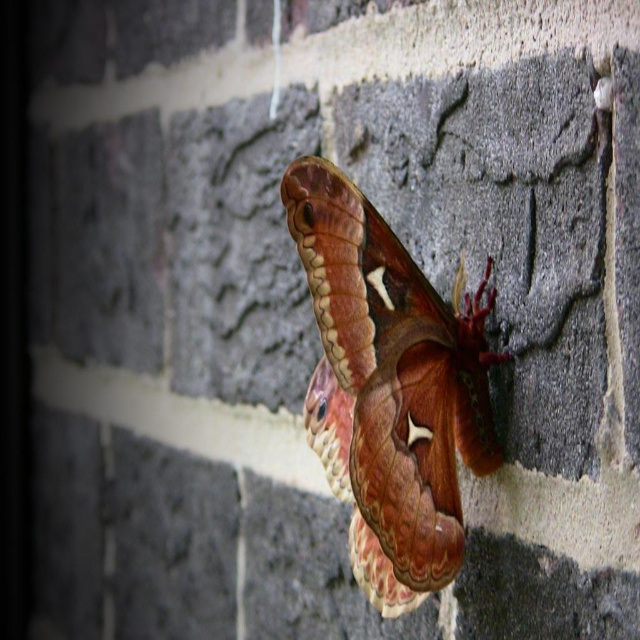Butterfly: (299, 145, 520, 594)
